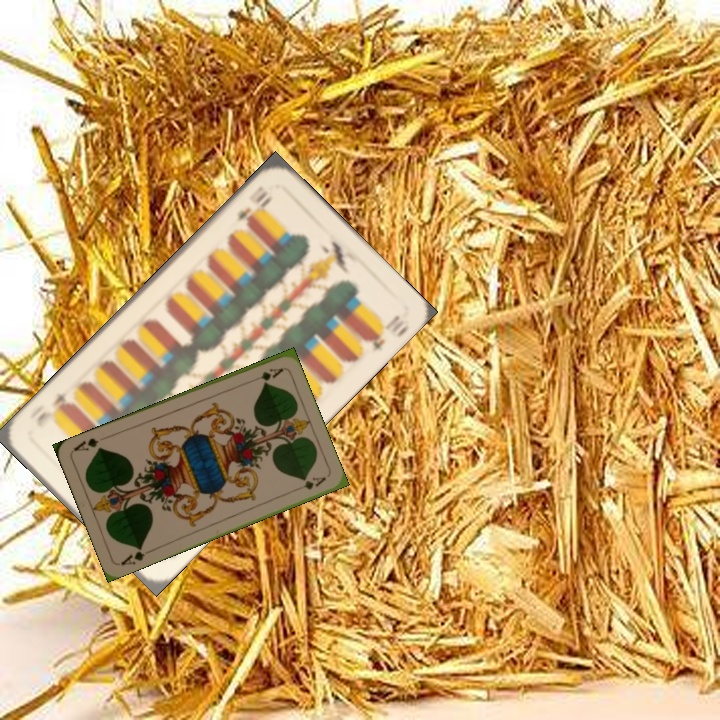E10: (232, 185, 274, 227)
GA: (117, 542, 155, 568), (246, 364, 286, 385)
